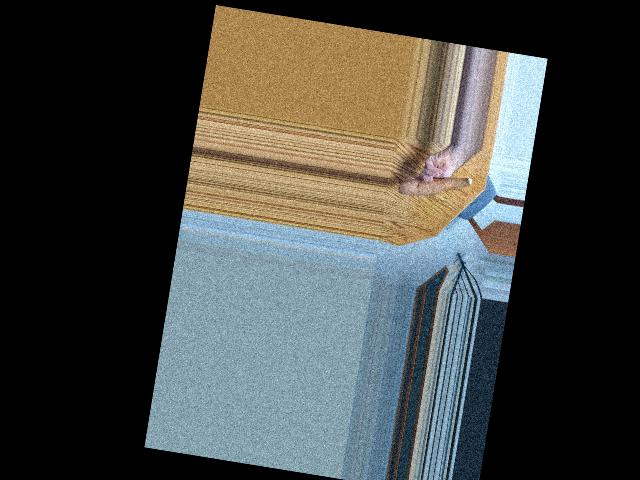sweet_potato: (398, 163, 474, 207)
